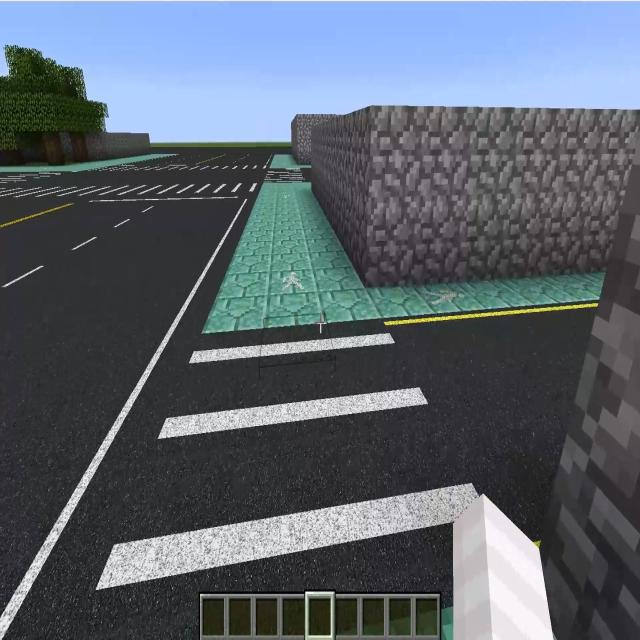crosswalk: (76, 322, 486, 639), (0, 183, 258, 200), (90, 156, 270, 171), (0, 172, 73, 186), (265, 169, 305, 182)
road: (3, 206, 248, 629), (400, 311, 599, 535), (135, 147, 292, 165), (14, 173, 264, 184)
sidewalk: (203, 180, 604, 333), (0, 153, 176, 176), (270, 154, 310, 168)
